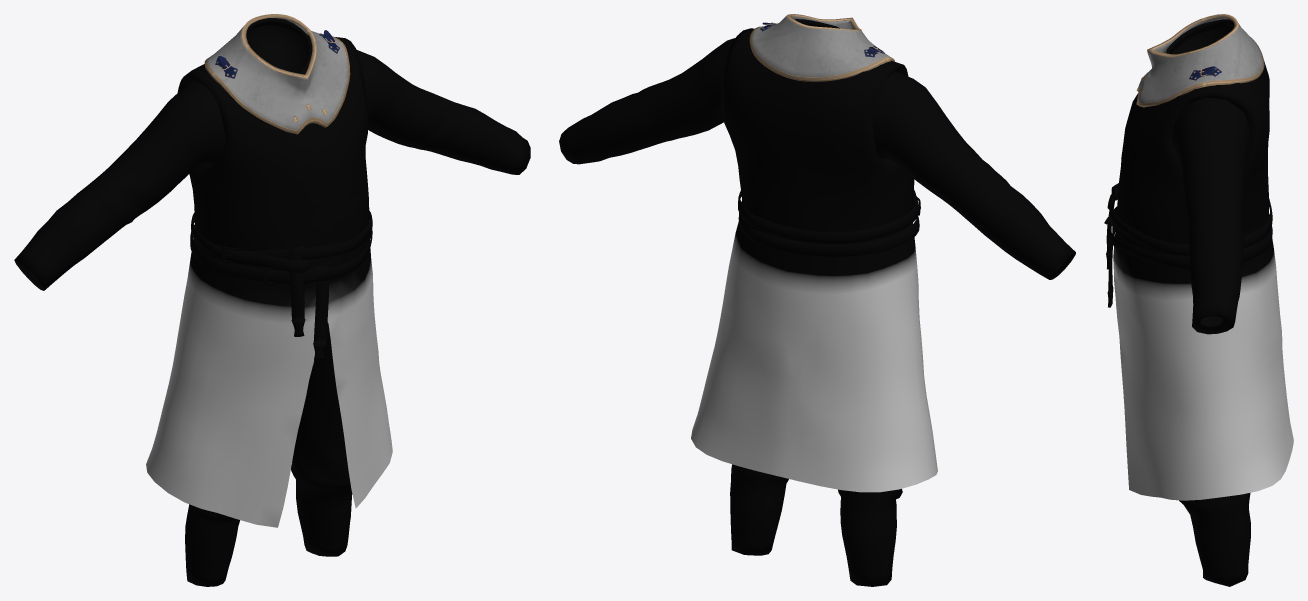
The model's file is swan_knight_armor_tabard1_t1.fbx.
The picture shows the model from 3 angles, left to right: view 1: azimuth 30°, elevation 25°; view 2: azimuth 150°, elevation 25°; view 3: azimuth 270°, elevation 25°; orthographic projection. The views are drawn at different scales.
Parts seen in each view (by area): view 1: swan_knight_armor_tabard1_t1.0, swan_knight_armor_tabard1_t1.1; view 2: swan_knight_armor_tabard1_t1.0, swan_knight_armor_tabard1_t1.1; view 3: swan_knight_armor_tabard1_t1.0, swan_knight_armor_tabard1_t1.1.
Part boxes in pixels (x1=…): swan_knight_armor_tabard1_t1.0: x1=14, y1=18, x2=530, y2=586; swan_knight_armor_tabard1_t1.1: x1=204, y1=14, x2=350, y2=134; swan_knight_armor_tabard1_t1.0: x1=559, y1=19, x2=1075, y2=586; swan_knight_armor_tabard1_t1.1: x1=749, y1=14, x2=894, y2=81; swan_knight_armor_tabard1_t1.0: x1=1104, y1=19, x2=1293, y2=586; swan_knight_armor_tabard1_t1.1: x1=1136, y1=14, x2=1264, y2=107.
Size of the model in its own units: 1.34 by 0.4478 by 1.38.
